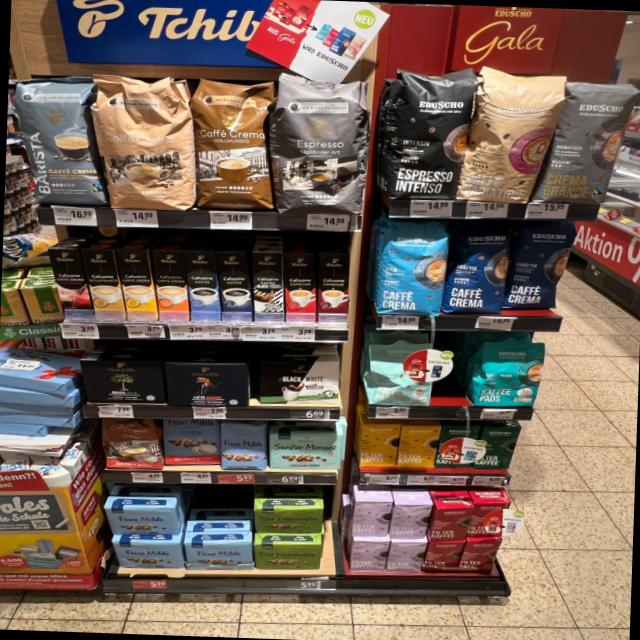BM Gemahlen: (76, 354, 166, 406)
BW Gemahlen: (258, 357, 342, 405)
Barista CC: (13, 73, 109, 208)
CC Mild: (92, 74, 190, 212)
CC Vollmundig: (98, 418, 164, 472)
CC Vollmundig 36 Pads: (190, 76, 278, 212)
Espresso M Art: (270, 72, 368, 215)
FM 36 Pads: (159, 417, 220, 468)
FM Bohne: (218, 422, 268, 472)
FM Gemahlen: (105, 507, 179, 536), (185, 540, 253, 571), (112, 540, 182, 569)
Herzhatfe Mundig: (254, 542, 322, 569), (255, 507, 323, 533)
LG Gemahlen: (164, 360, 252, 409)
SM Gemahlen: (266, 430, 344, 471)
Simo CC Colombia: (47, 248, 95, 320)
Simo CCMild bigpack: (118, 248, 158, 320)
Simo CCVollmundig bigpack: (152, 248, 189, 321)
Simo Decaff: (81, 248, 125, 320)
Simo Es Brazil: (283, 252, 316, 322)
Simo Es Caramel: (317, 253, 348, 323)
Simo Es Elegant: (253, 251, 283, 322)
Simo Es Kraft: (217, 251, 252, 321)
Simo Es Vanilla: (185, 250, 220, 322)
